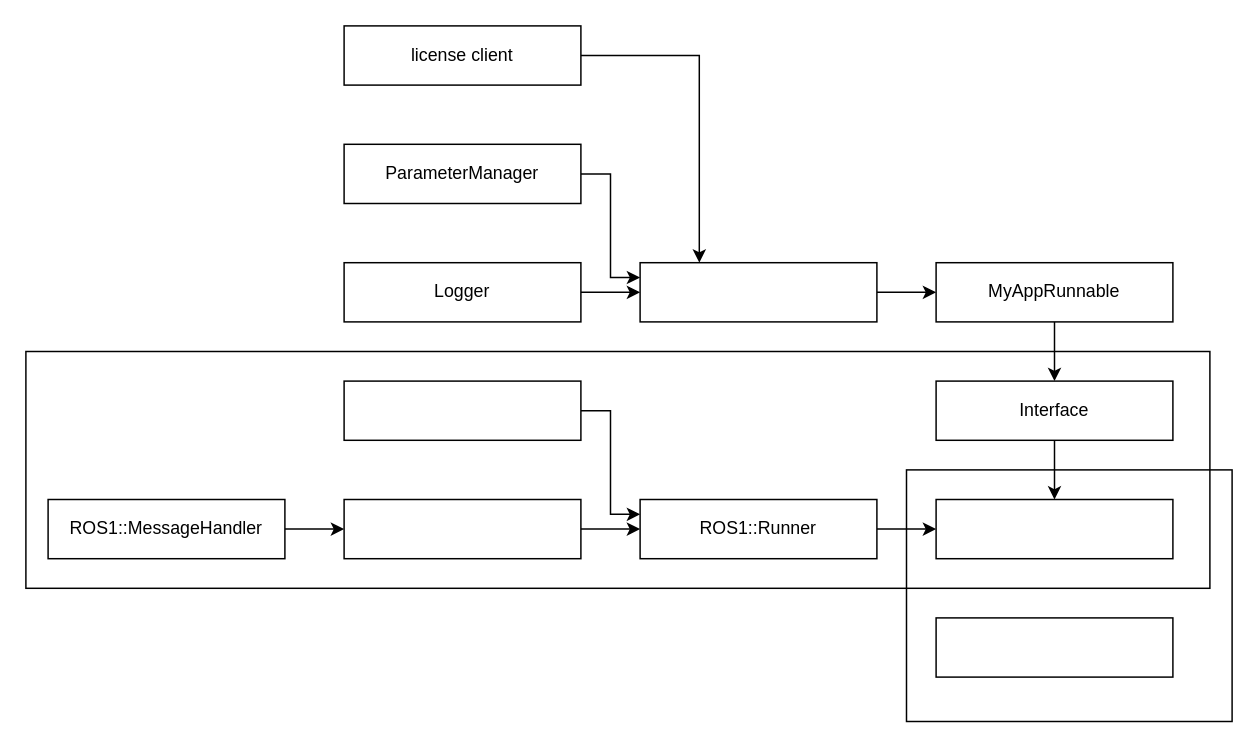
Some shapes in this 1258 by 747 pixel diagram are drawn without their labels. Here are the shapes that lost their labels. From the top down, the box of each, then its label:
(639, 261, 877, 322): BaseRunnable
(343, 380, 581, 440): health checker
(343, 498, 581, 559): ROS1::Node
(935, 498, 1173, 559): ROS::Runner
(935, 616, 1173, 677): ROS2::Runner
